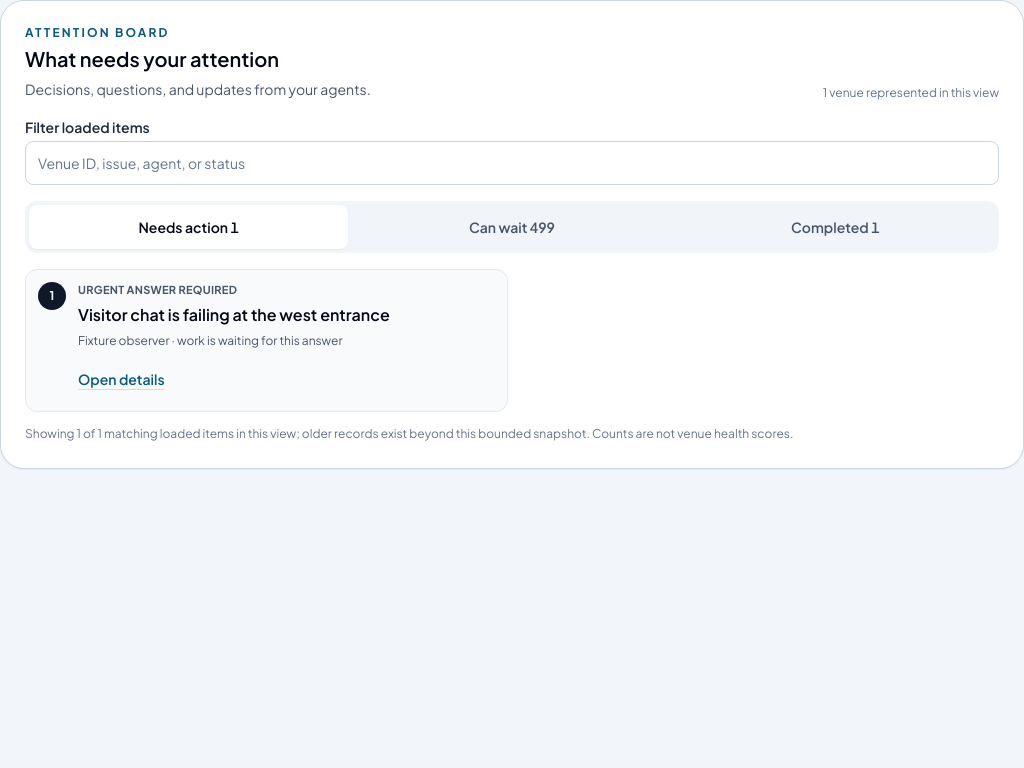
Test: FounderTwoMinuteBoard › finds deferred venue work beyond the first six without expanding the bounded board
Click the tab "Can wait 499". click: (512, 227)
box: [352,205,672,249]
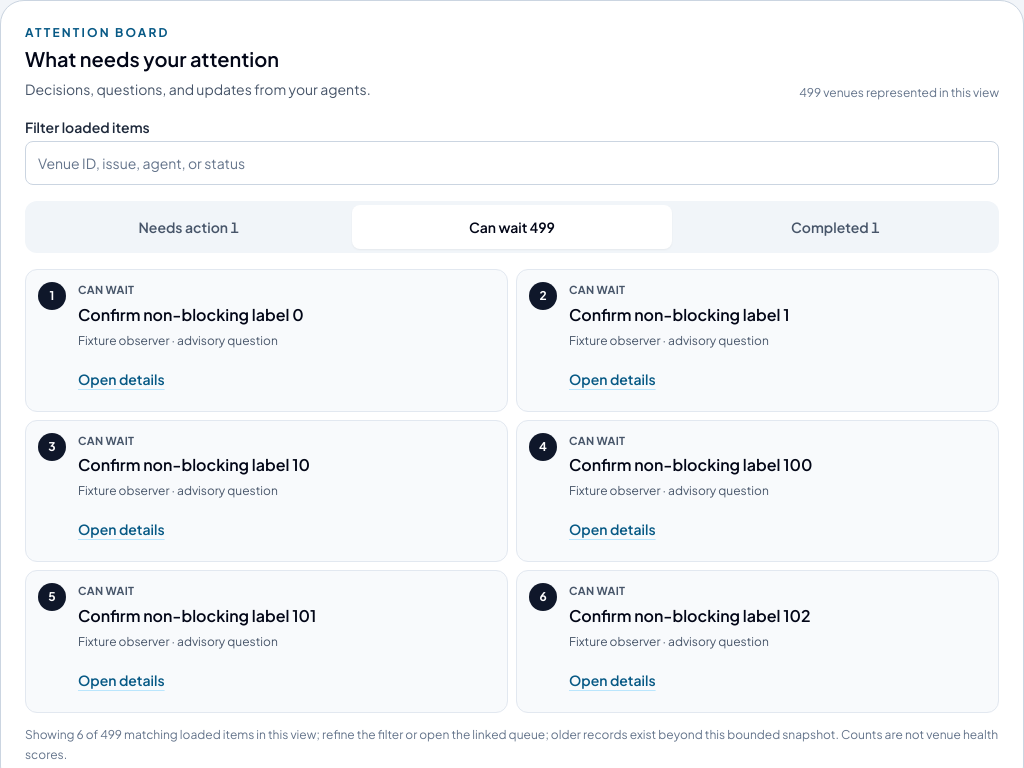
Expected: the text "Confirm non-blocking label 410" is not shown
Type "venue-410" into the search field labelled "Filter loaded items". click: (512, 163)
box: [25,141,999,185]
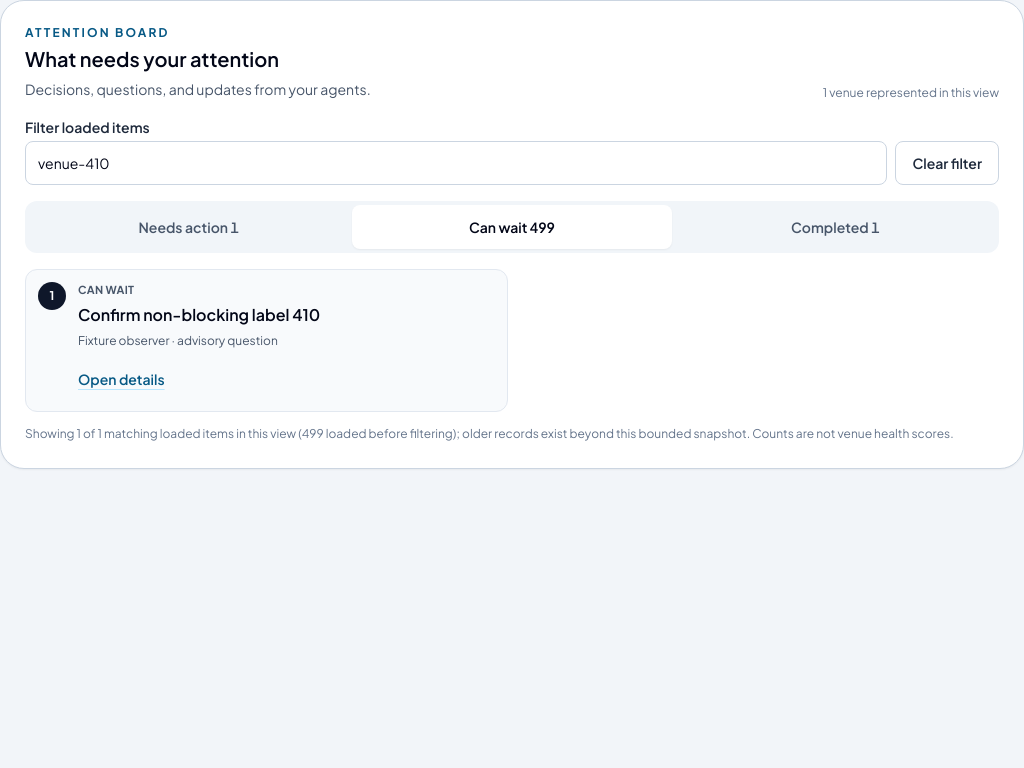
Now the text "Confirm non-blocking label 410" is shown, box [78,302,320,326]
Now the text "Showing 1 of 1 matching loaded items" is shown, box [25,424,999,444]
Now the text "499 loaded before filtering" is shown, box [296,426,456,440]
Replace the text in the search field labelled "Filter loaded items" with "missing venue". click: (456, 163)
box: [25,141,887,185]
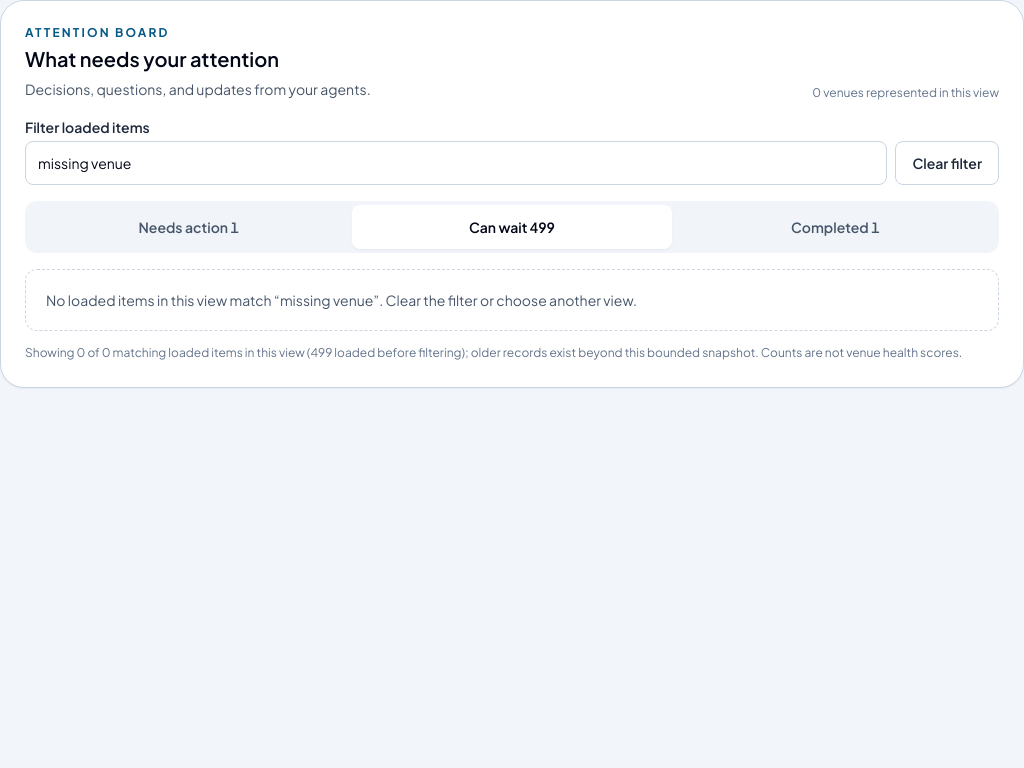
Now the text "No loaded items in this view match" is shown, box [46,291,280,309]
Click the button "Clear filter". click: (947, 163)
box: [895,141,999,185]
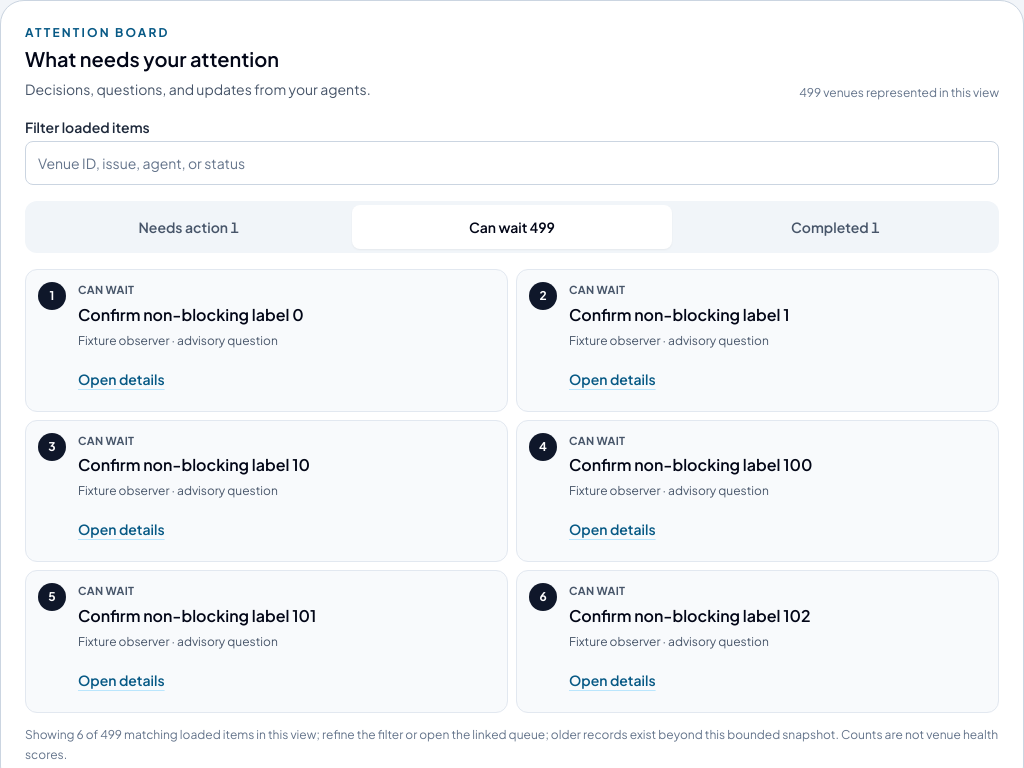
Now the text "Confirm non-blocking label 0" is shown, box [78,302,304,326]
